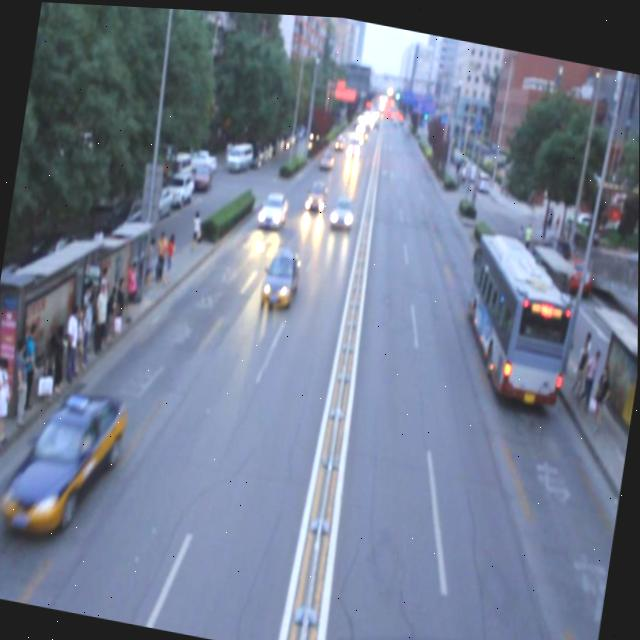car: (11, 372, 131, 549), (257, 238, 305, 314), (257, 183, 290, 231), (302, 172, 330, 212), (329, 189, 356, 230), (317, 141, 336, 171)
van: (455, 222, 580, 403)
